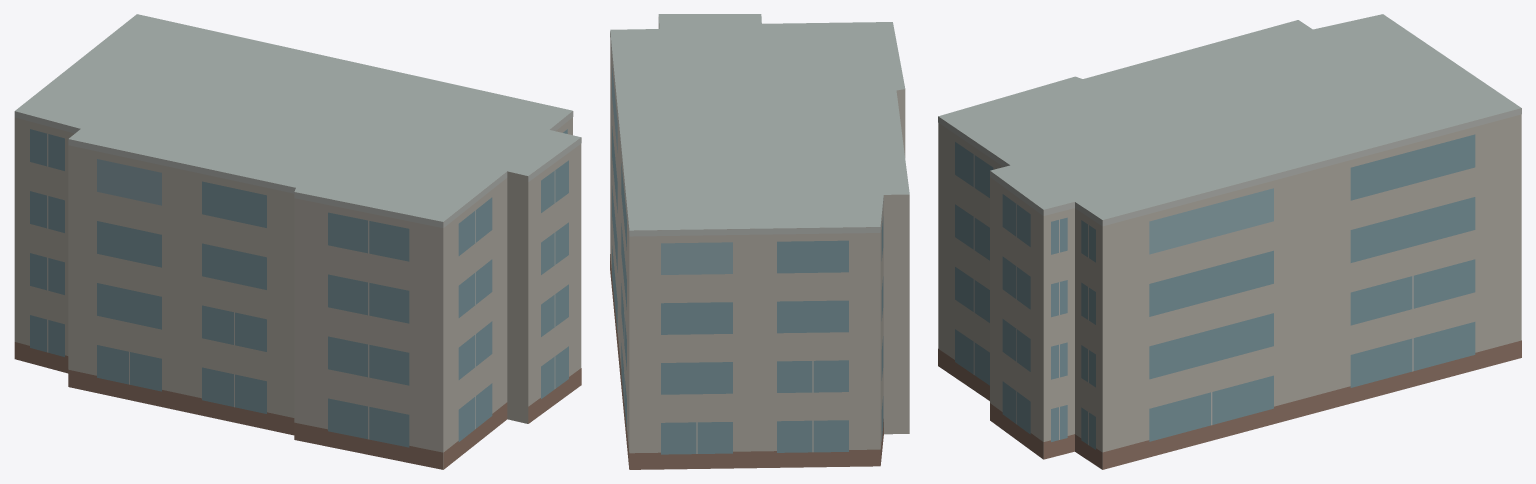
The model's file is survey-upis-33026248.glb.
3 views of the same model, side by side, from view 1: azimuth 30°, elevation 25°; view 2: azimuth 150°, elevation 25°; view 3: azimuth 270°, elevation 25° (orthographic). The views are drawn at different scales.
Visible parts, largest first — view 1: survey-upis-33026248.tmp; view 2: survey-upis-33026248.tmp; view 3: survey-upis-33026248.tmp.
Part boxes in pixels (bbox=[...]): survey-upis-33026248.tmp: bbox=[14, 14, 581, 469]; survey-upis-33026248.tmp: bbox=[610, 14, 909, 469]; survey-upis-33026248.tmp: bbox=[938, 14, 1521, 469].
Size of the model in its own units: 17.18 by 9.7 by 20.55.
